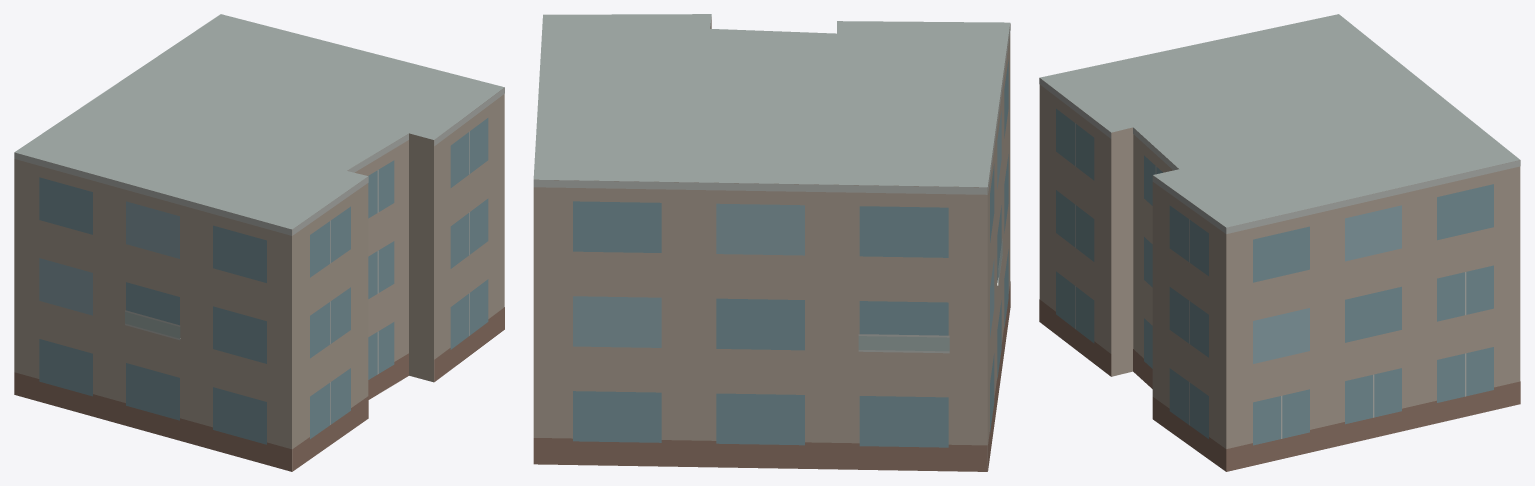
The model's file is survey-upis-32772695.glb.
The picture shows the model from 3 angles, left to right: view 1: azimuth 30°, elevation 25°; view 2: azimuth 150°, elevation 25°; view 3: azimuth 270°, elevation 25°; orthographic projection. The views are drawn at different scales.
Visible parts, largest first — view 1: survey-upis-32772695.tmp; view 2: survey-upis-32772695.tmp; view 3: survey-upis-32772695.tmp.
Part boxes in pixels (x1,y1,x2,y2): survey-upis-32772695.tmp: (14, 14, 504, 471); survey-upis-32772695.tmp: (533, 14, 1010, 471); survey-upis-32772695.tmp: (1039, 14, 1520, 471).
Bounding box in the file's own units: 17.18 × 9.15 × 16.34.
